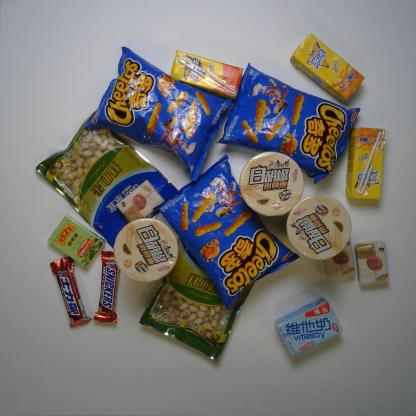Candy: (46, 214, 107, 269)
Chocolate: (50, 256, 92, 329), (92, 250, 121, 324)
Dried Fruit: (35, 109, 181, 250), (139, 216, 256, 364)
Drink: (290, 33, 366, 104), (169, 49, 244, 100), (345, 126, 386, 202)
Instant Noodles: (286, 194, 352, 261), (238, 151, 305, 217), (112, 218, 178, 282)
Milk: (274, 296, 343, 358)
Puffed Food: (152, 153, 300, 308), (83, 44, 234, 182), (215, 52, 361, 184)
Tissue: (115, 178, 166, 224), (354, 240, 390, 288), (324, 236, 357, 278)
